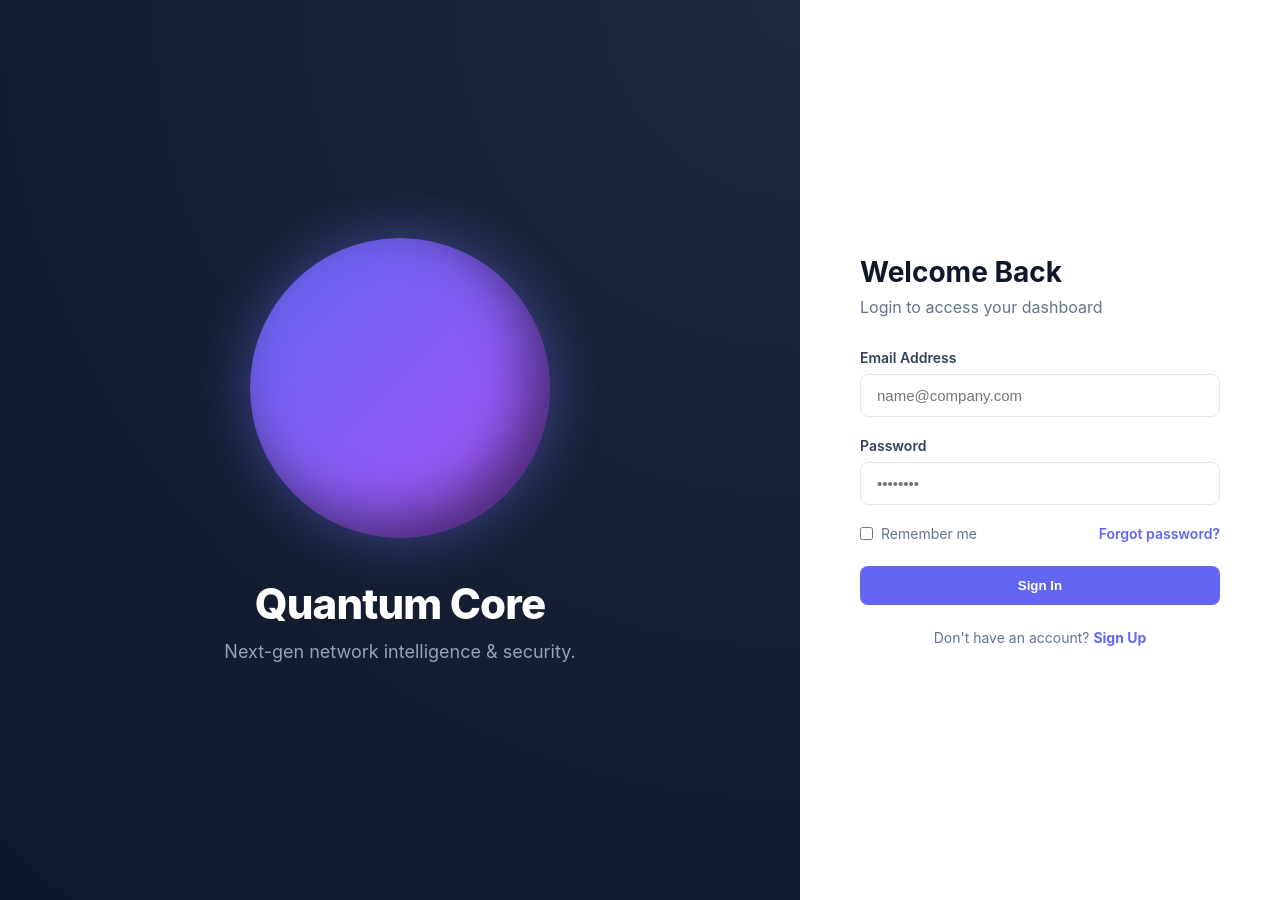
Test: Login Component › shows error if login fails
The image size is (1280, 900).
Type "test@mail.com" into the field with placeholder "name@company.com".
click(1040, 395); type("test@mail.com")  # box [860,374,1220,416]
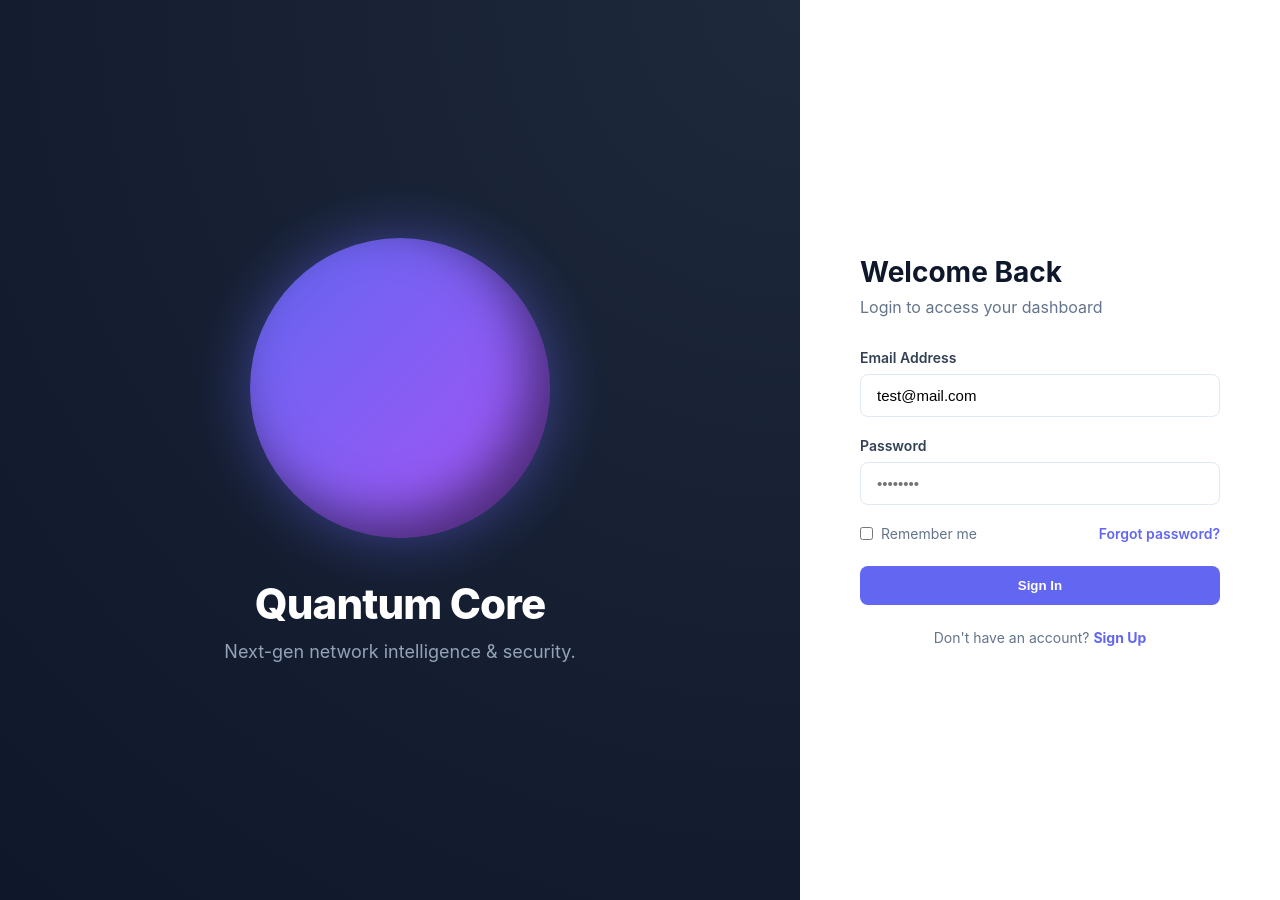
Type "password123" into the password field with placeholder "••••••••".
click(1040, 483); type("password123")  # box [860,462,1220,504]
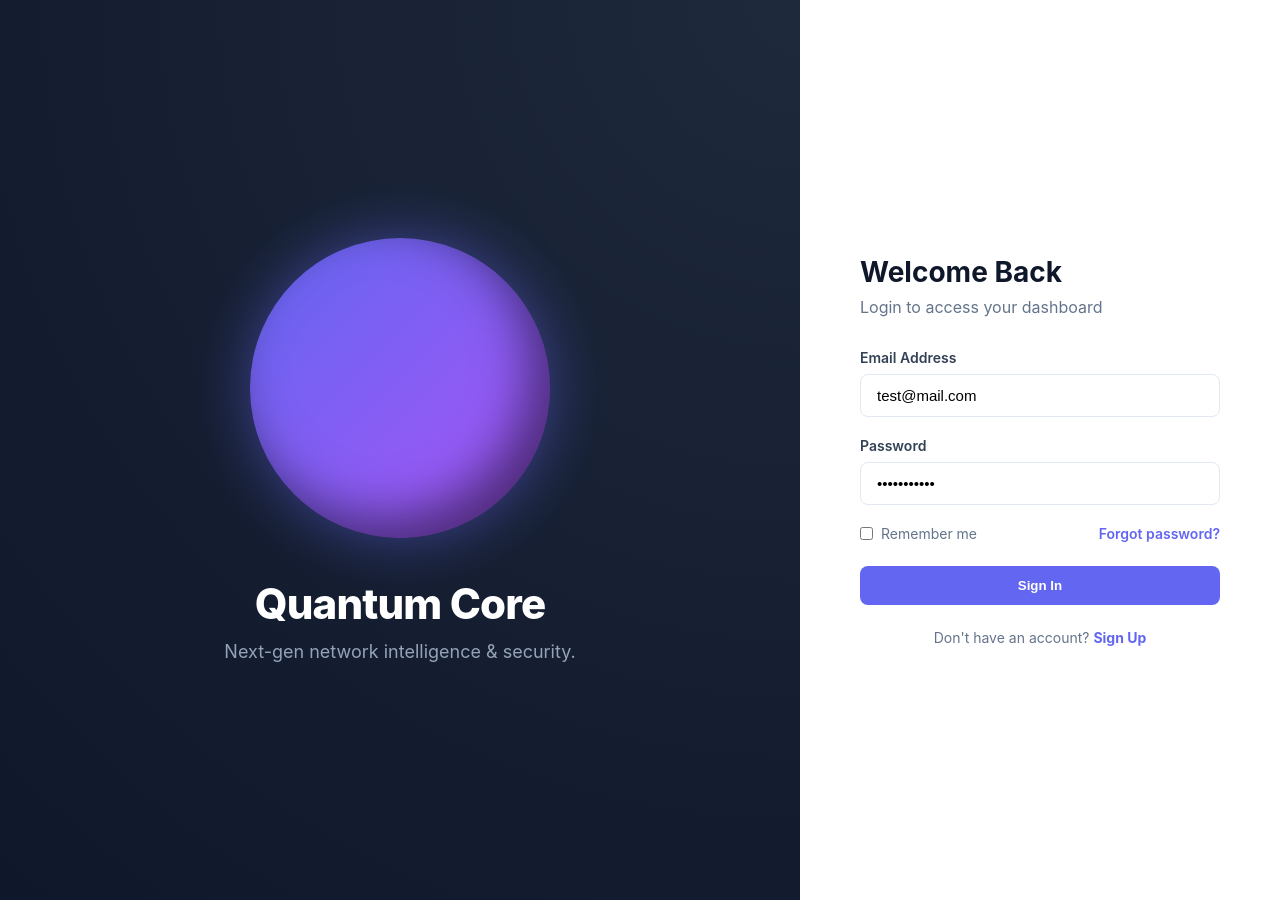
Click the button "Sign In".
click(1040, 585)  # box [860,566,1220,604]
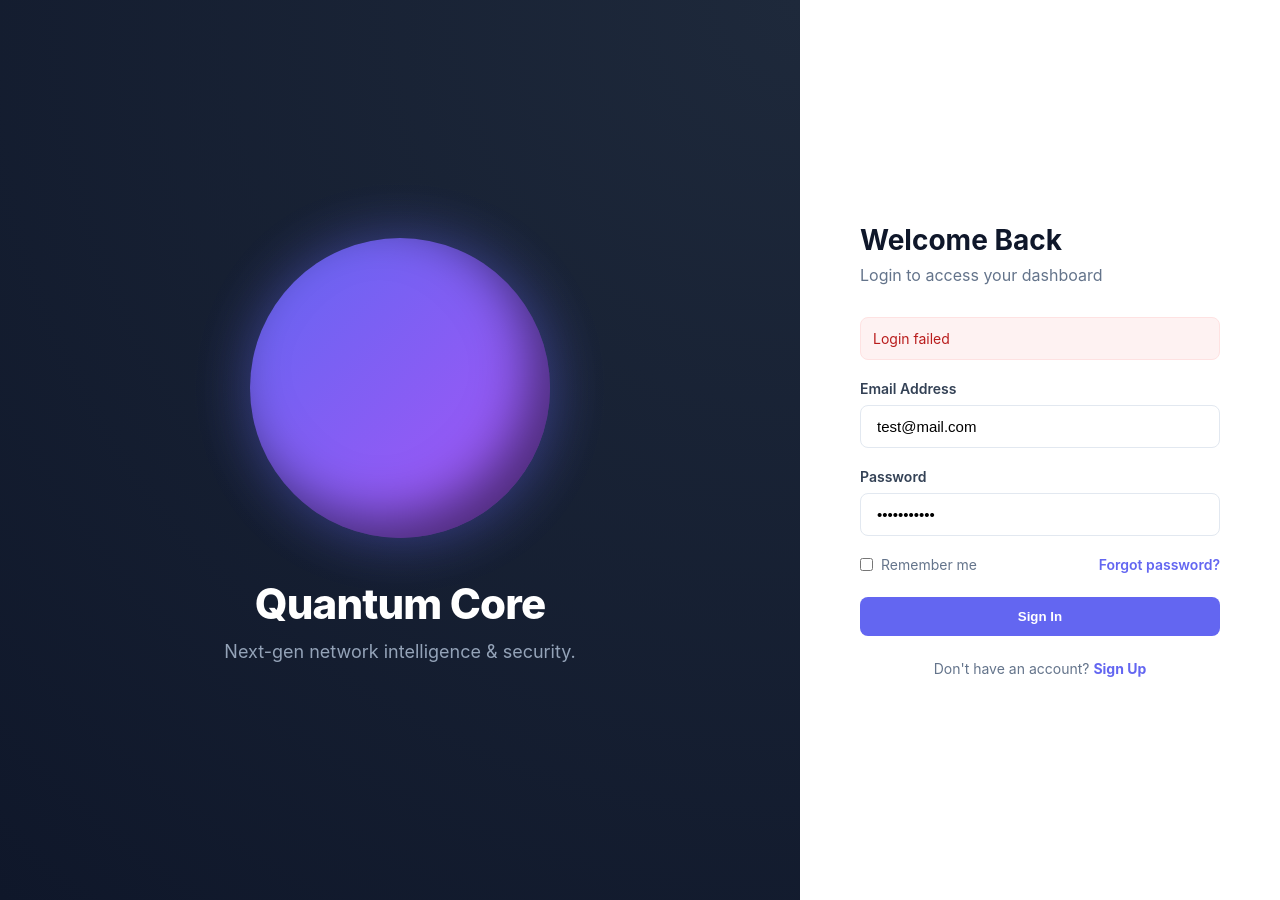
Result: the text "Login failed" is shown at [860,317,1220,360]
